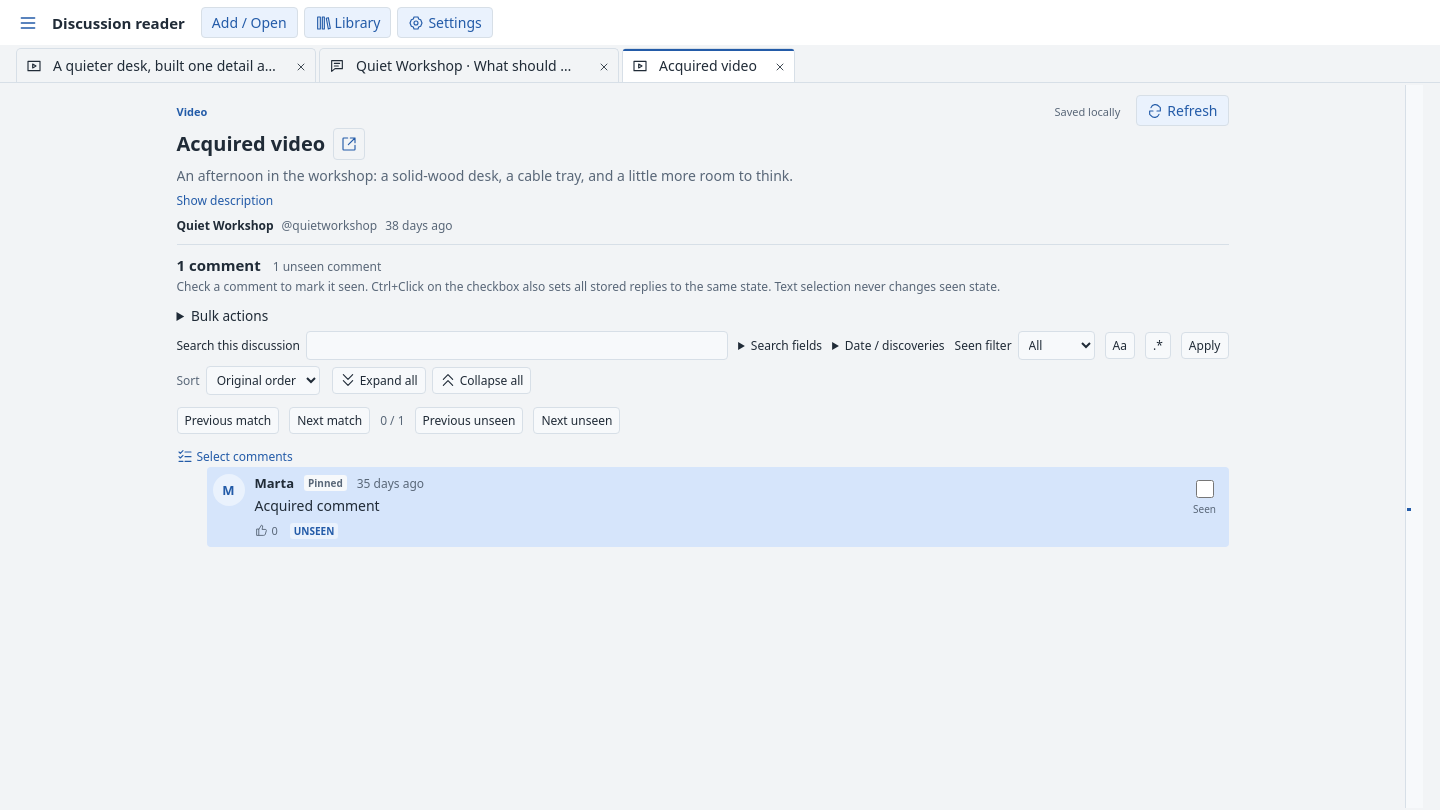
Test case: refresh failure preserves acquired comments and reports invalid helper
Step 1. Click the tab "Acquired video" → (694, 66), box [623,49,766,82]
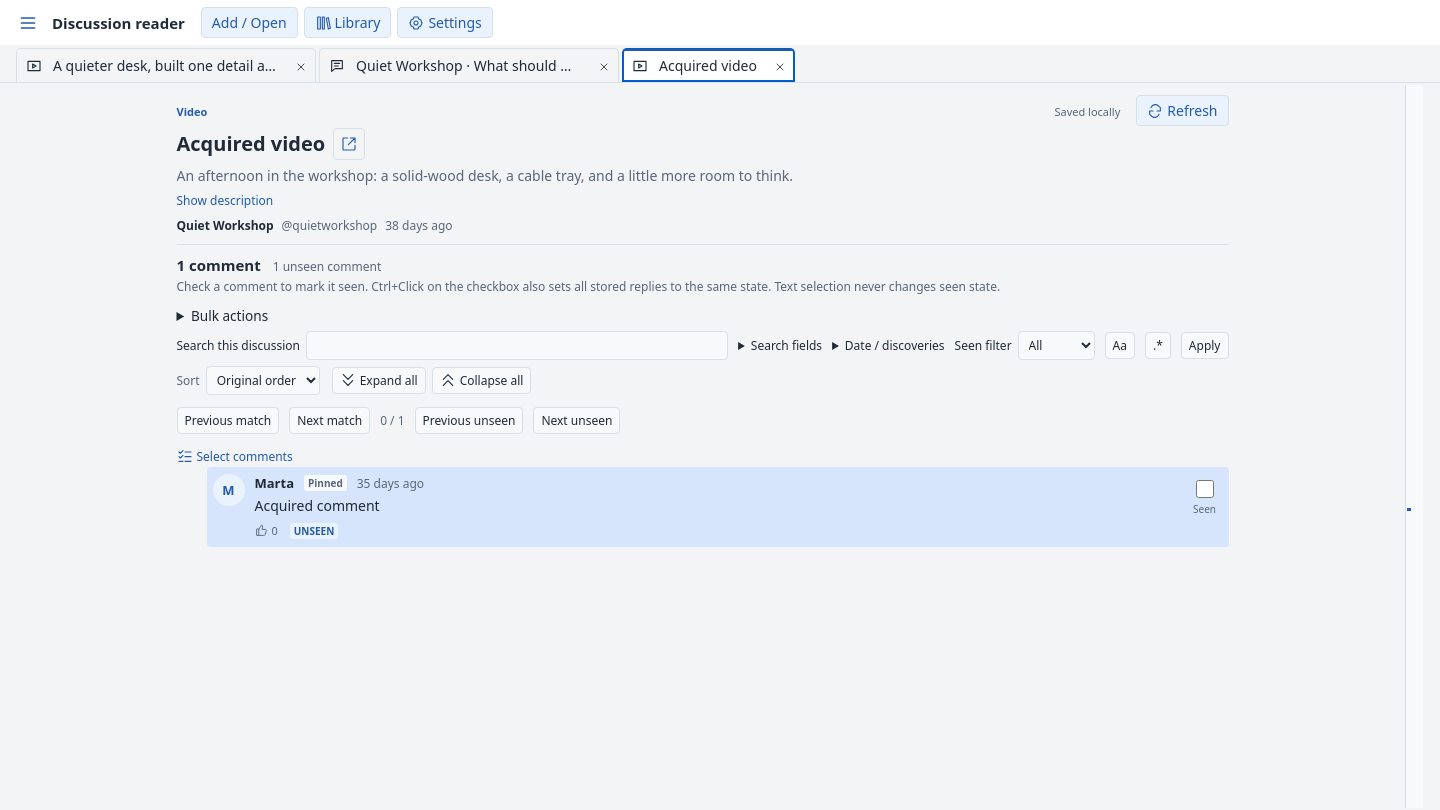
Step 2. Select "Newest first" in the dropdown labelled "Sort" → (263, 381), box [206,366,320,396]
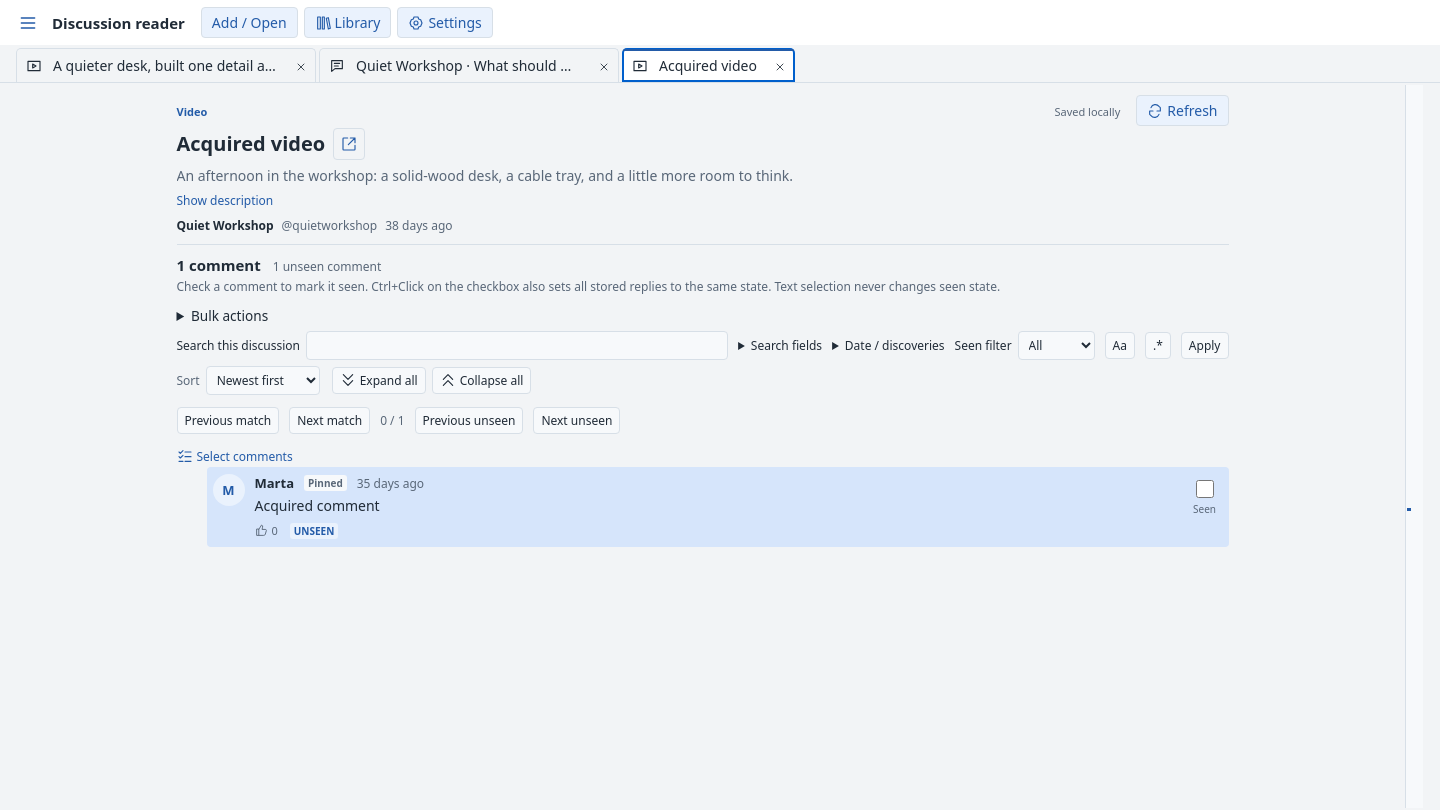
Step 3. Click the button "Refresh" → (1182, 110), box [1136,95,1228,126]
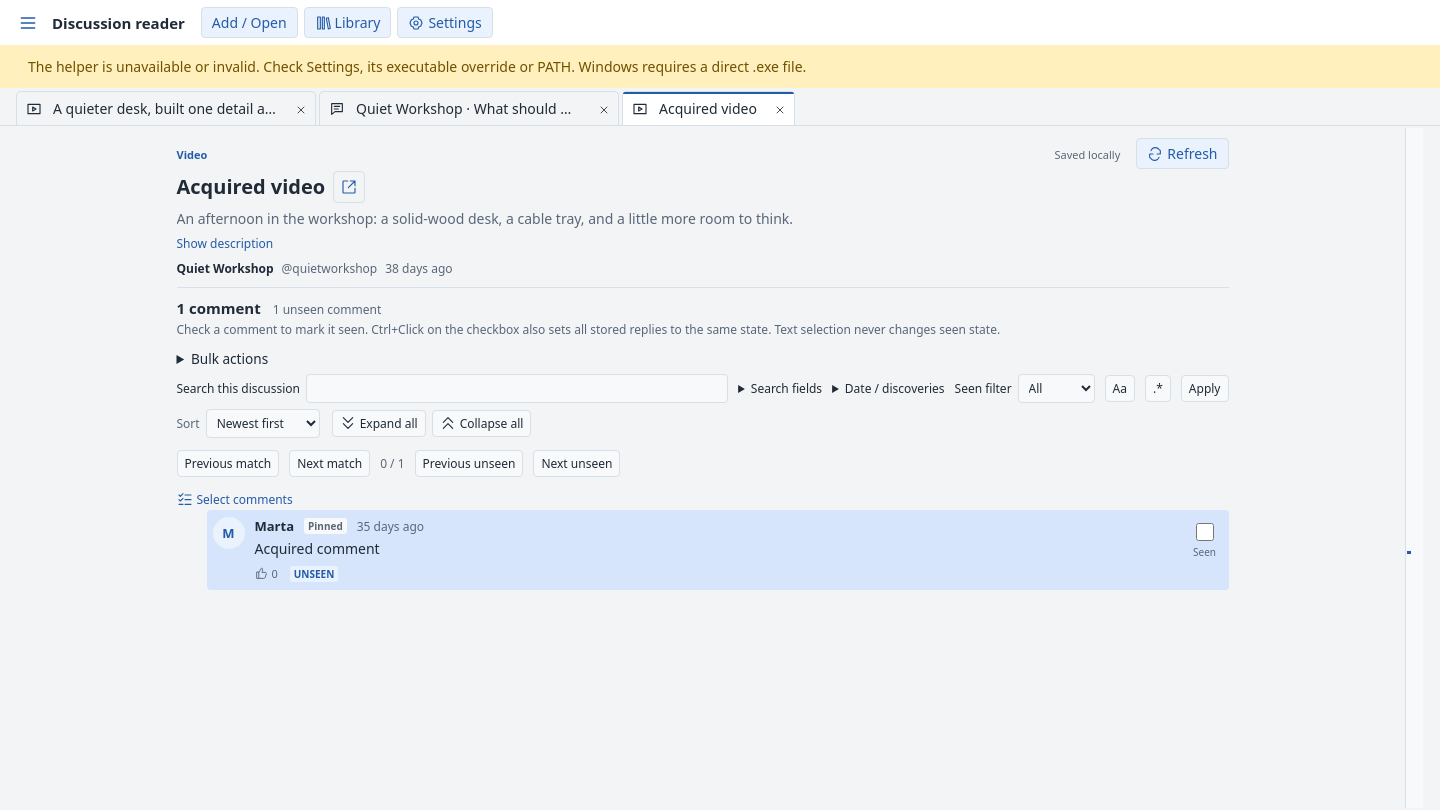
Expected: the text "Acquired comment" is shown, [254,540,380,558]
Expected: the message shows "unavailable or invalid", [28,57,806,76]
